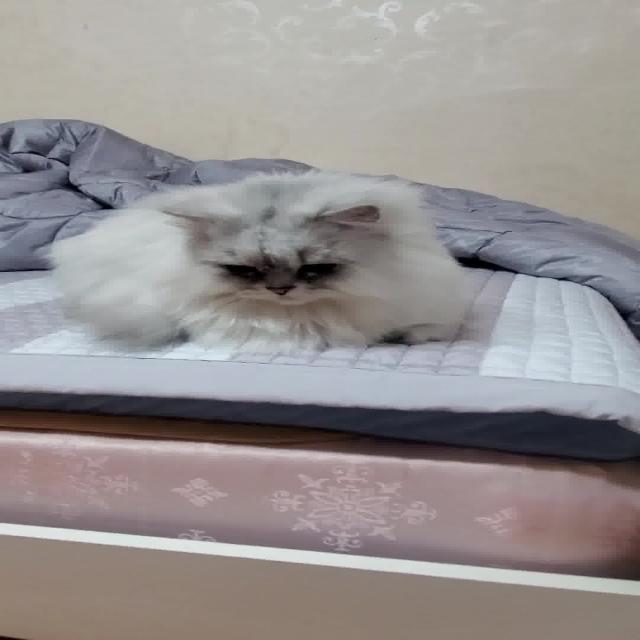cat: (30, 166, 505, 359)
